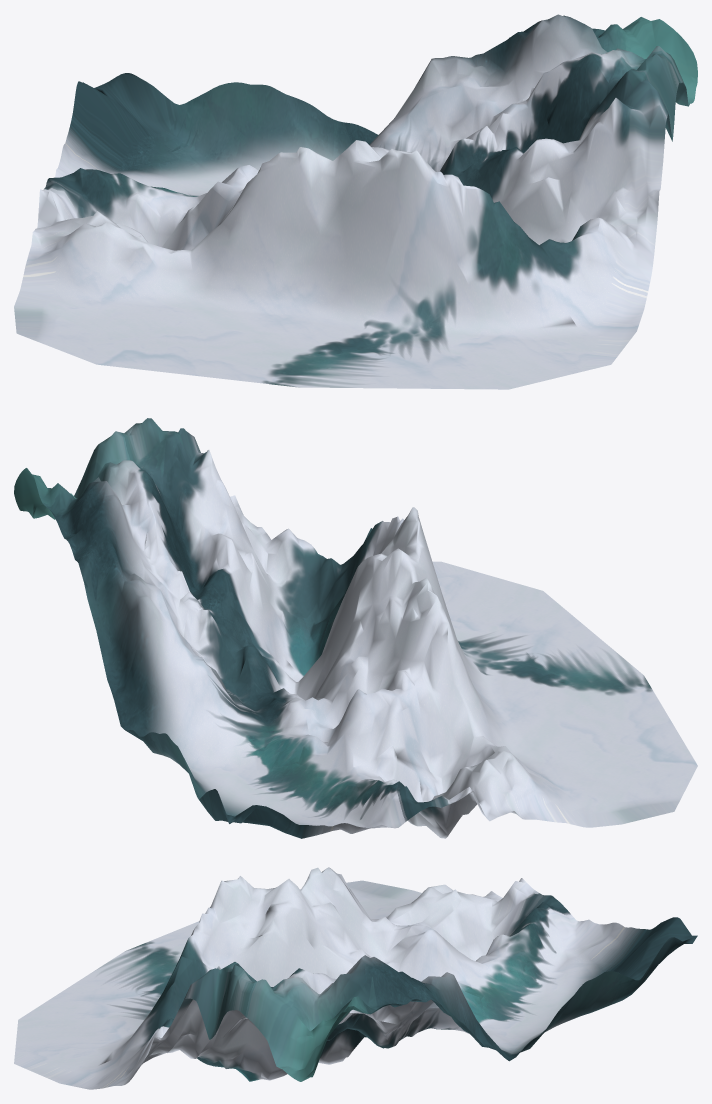
The model's file is IceArena_SnowMountain2.fbx.
The picture shows the model from 3 angles, top to bottom: view 1: azimuth 30°, elevation 25°; view 2: azimuth 150°, elevation 25°; view 3: azimuth 270°, elevation 25°; orthographic projection. The views are drawn at different scales.
Parts seen in each view (by area): view 1: SnowMountain1.001; view 2: SnowMountain1.001; view 3: SnowMountain1.001.
Part boxes in pixels (x1,y1,x2,y2): SnowMountain1.001: (14,14,697,389); SnowMountain1.001: (14,418,697,838); SnowMountain1.001: (14,867,697,1089).
Bounding box in the file's own units: 90641 × 27244 × 86943.
Materials: 1 (1 with a texture image).
